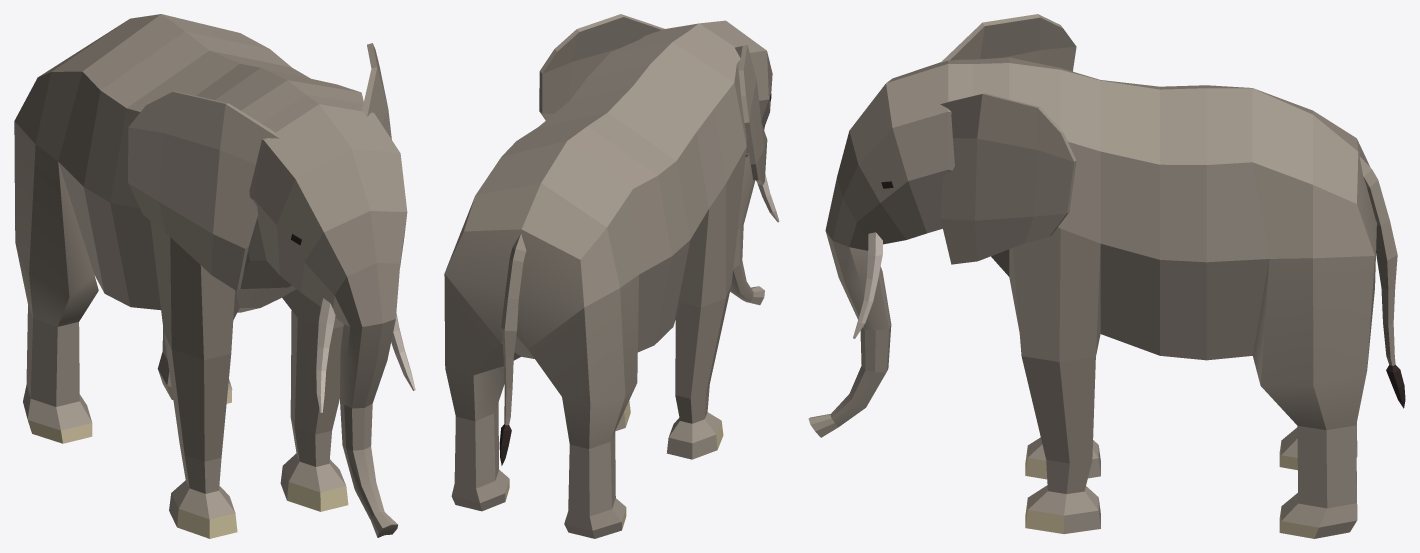
Rendered from Mesh_Elephant.obj.
The picture shows the model from 3 angles, left to right: view 1: azimuth 30°, elevation 25°; view 2: azimuth 150°, elevation 25°; view 3: azimuth 270°, elevation 25°; orthographic projection. The views are drawn at different scales.
Parts seen in each view (by area): view 1: Geo_Elephant; view 2: Geo_Elephant; view 3: Geo_Elephant.
Boxes of the visible parts, box(x1,y1,x2,y2) form: Geo_Elephant: box(14, 14, 415, 538); Geo_Elephant: box(444, 14, 779, 538); Geo_Elephant: box(808, 14, 1405, 538).
Size of the model in its own units: 112 by 187 by 231.
1 material, 1 textured.
